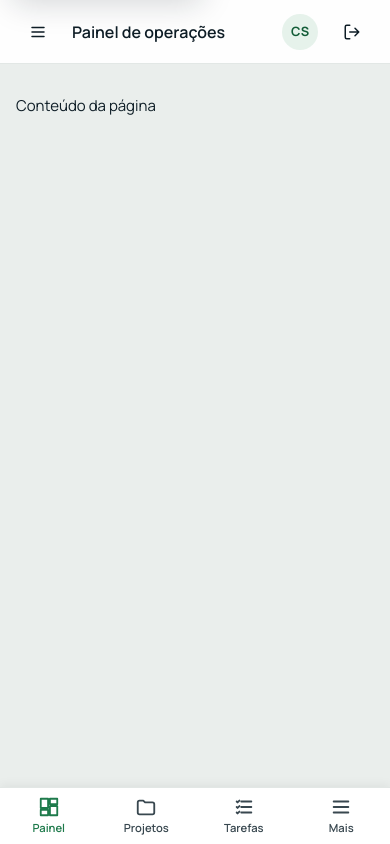
Scenario: Layout (navegação principal) › tem ligação para saltar para o conteúdo e menu acessível por teclado
Click the button named "Abrir menu" at (38, 32), box [16,10,60,54]
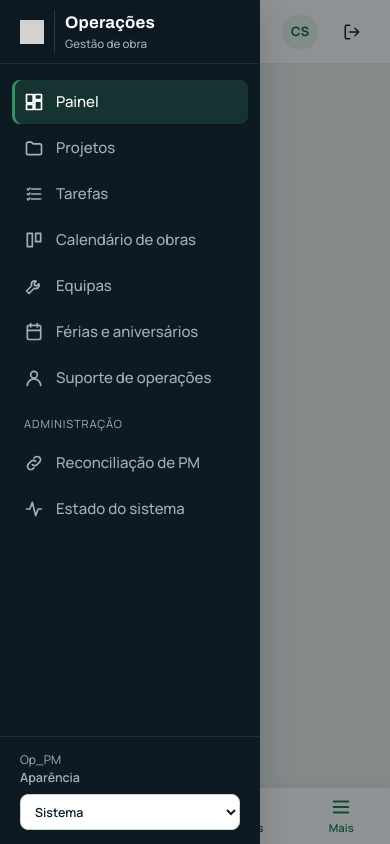
Result: the button named "Fechar menu" is expanded at [16,10,60,54]
